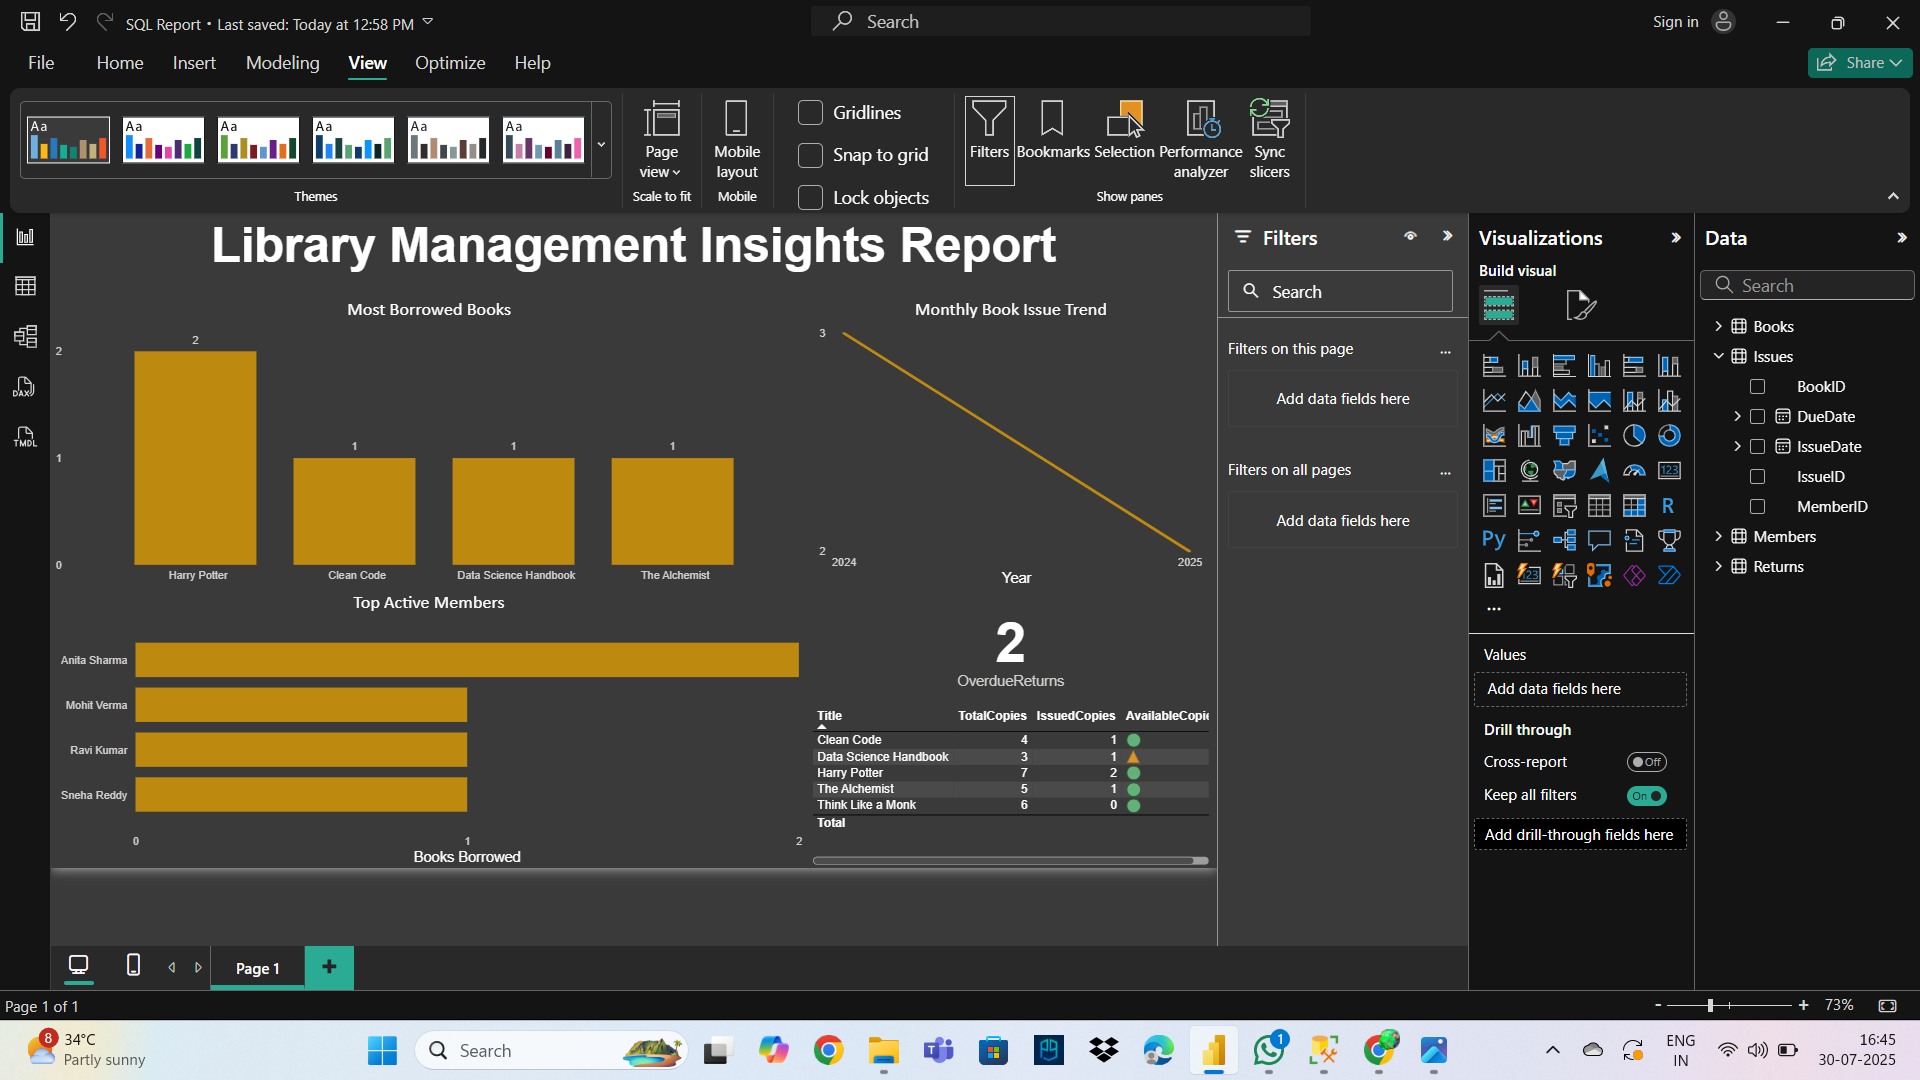

The page's visual inventory and layout, read from the dashboard file:
{"tool":"powerbi","page":{"name":"Page 1","canvas":[1280,720],"ordinal":0},"visuals":[{"type":"columnChart","title":"Most Borrowed Books","fields":{"Category":["Books.Title"],"Y":["CountNonNull(Issues.BookID)"]},"box":[0,93.3,811,321.1],"z":0},{"type":"barChart","title":"Top Active Members","fields":{"Category":["Members.Name"],"Y":["CountNonNull(Issues.IssueID)"]},"box":[0,414.4,811,306],"z":1000},{"type":"lineChart","title":"Monthly Book Issue Trend","fields":{"Y":["CountNonNull(Issues.IssueID)"],"Category":["Issues.IssueDate.Variation.Date Hierarchy.Year","Issues.IssueDate.Variation.Date Hierarchy.Month","Issues.IssueDate.Variation.Date Hierarchy.Day"]},"box":[811,93.3,458.3,321.1],"z":2000},{"type":"tableEx","fields":{"Values":["Books.Title","Books.TotalCopies","Books.IssuedCopies","Books.AvailableCopies"]},"box":[811,537.9,469.3,182.5],"z":3000},{"type":"card","title":"Overdue Returns","fields":{"Values":["Returns.OverdueReturns"]},"box":[905.7,414.4,279.9,123.5],"z":4000},{"type":"textbox","box":[107,0,1064.8,81],"z":5000}]}

Visuals, with their boxes on the page's 1280x720 design canvas (x1, y1, x2, y2). These are canvas units, not pixel positions in the 1920x1080 screenshot, which may show the page scaled, cropped or inside an application window:
"Most Borrowed Books" columnChart: bbox=(0, 93, 811, 414)
"Top Active Members" barChart: bbox=(0, 414, 811, 720)
"Monthly Book Issue Trend" lineChart: bbox=(811, 93, 1269, 414)
tableEx - Books.Title x Books.TotalCopies: bbox=(811, 538, 1280, 720)
"Overdue Returns" card: bbox=(906, 414, 1186, 538)
textbox: bbox=(107, 0, 1172, 81)
